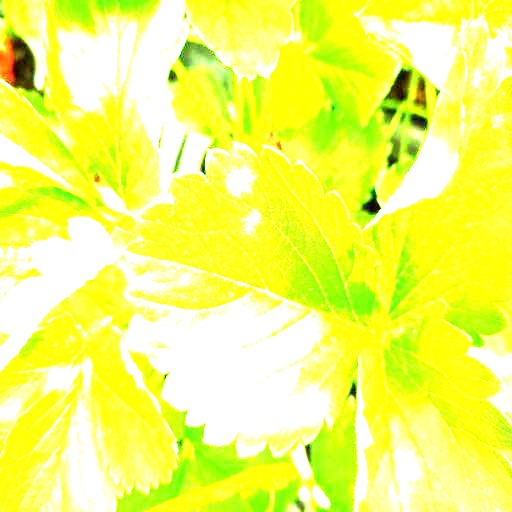Powdery Mildew Leaf: (119, 140, 382, 458), (366, 0, 511, 352), (353, 298, 511, 511), (40, 0, 193, 213), (0, 177, 139, 375), (83, 316, 179, 496)
